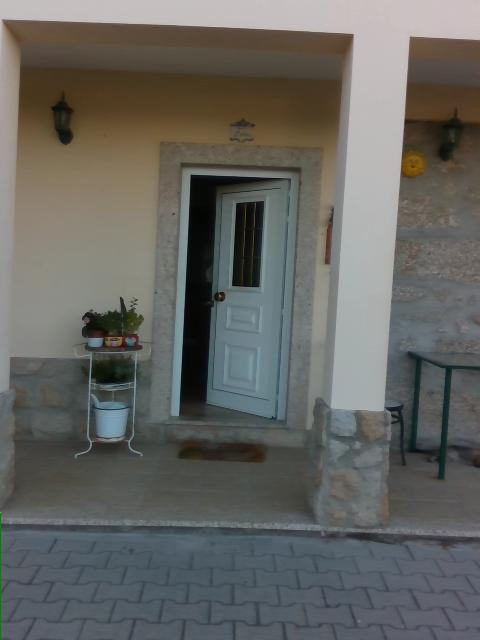semi_door: (169, 163, 300, 426)
